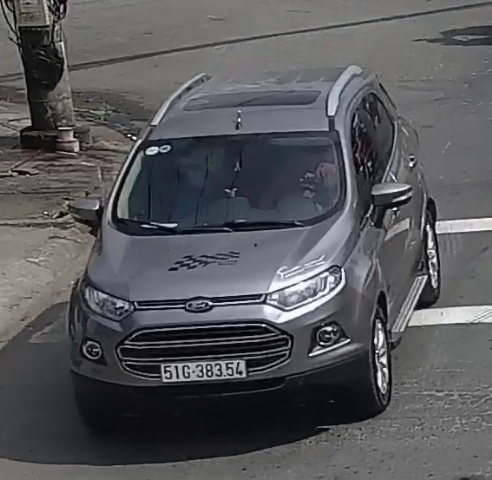vehicle plate: (155, 352, 255, 384)
